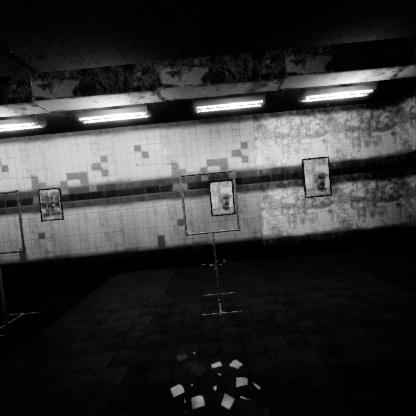gate: (179, 179, 245, 247)
